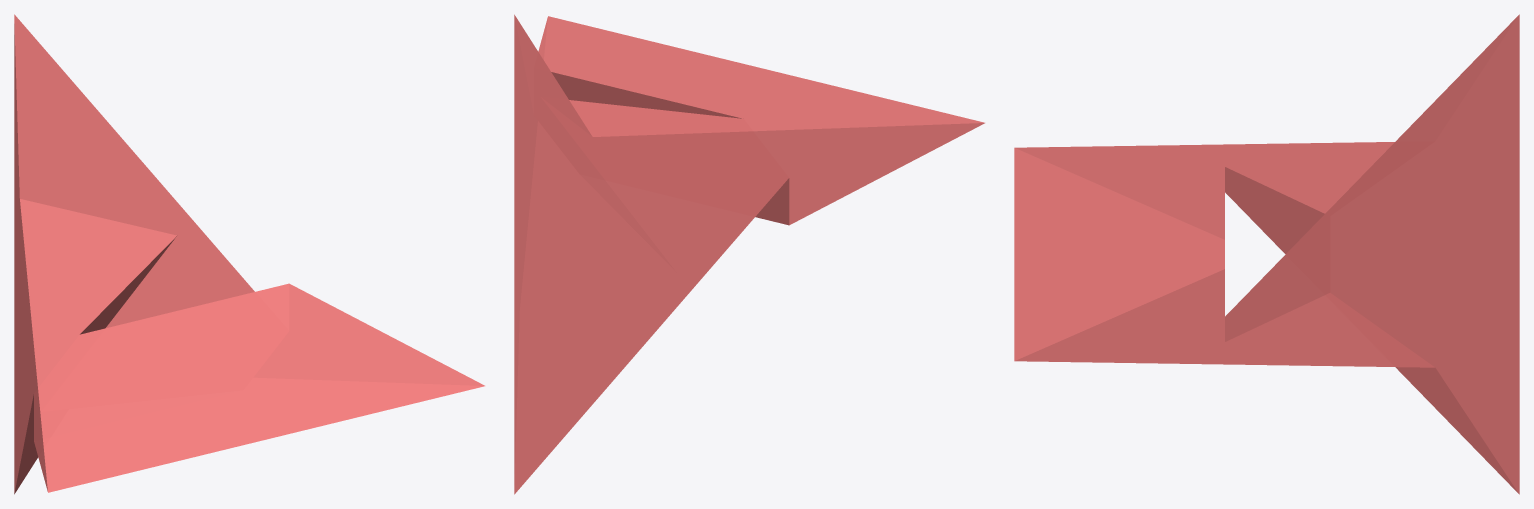
The model's file is Szilassi.obj.
The picture shows the model from 3 angles, left to right: view 1: azimuth 30°, elevation 25°; view 2: azimuth 150°, elevation 25°; view 3: azimuth 270°, elevation 25°; orthographic projection.
Bounding box in the file's own units: 24 × 25.2 × 24.
